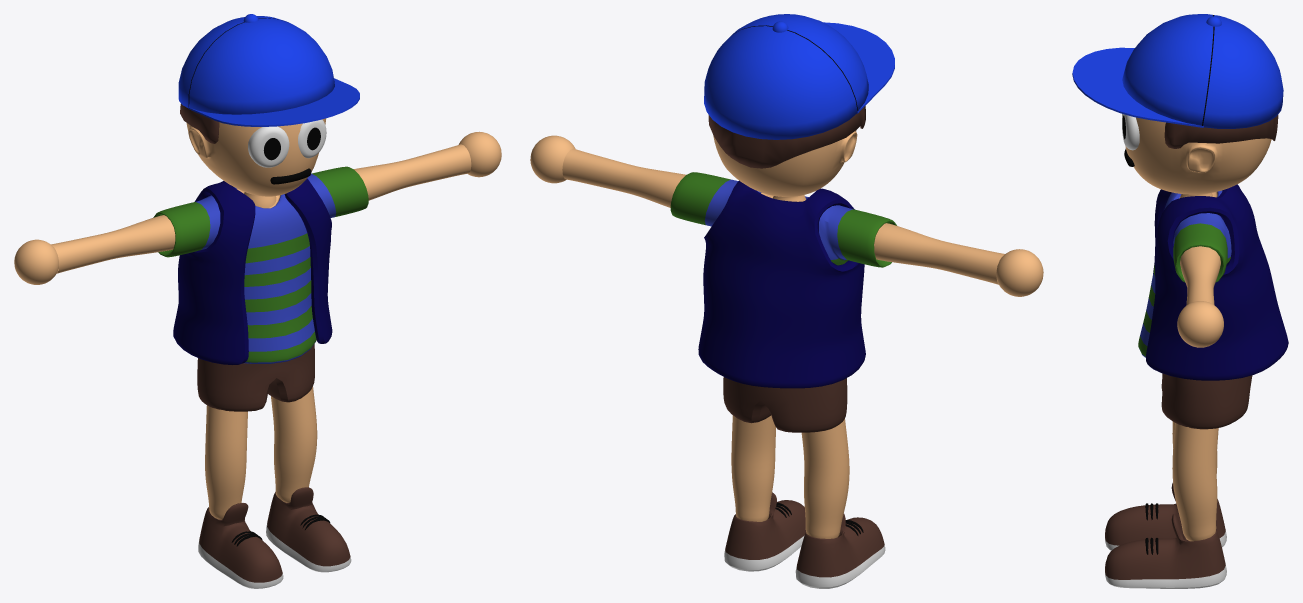
File: PixelNedTest.fbx
The picture shows the model from 3 angles, left to right: view 1: azimuth 30°, elevation 25°; view 2: azimuth 150°, elevation 25°; view 3: azimuth 270°, elevation 25°; orthographic projection. The views are drawn at different scales.
Parts seen in each view (by area): view 1: Circle.004; view 2: Circle.004; view 3: Circle.004.
Boxes of the visible parts, x1,y1,x2,y2 form: Circle.004: (14, 14, 501, 588); Circle.004: (530, 14, 1043, 588); Circle.004: (1072, 14, 1288, 588).
Bounding box in the file's own units: 133 × 140 × 50.24.
